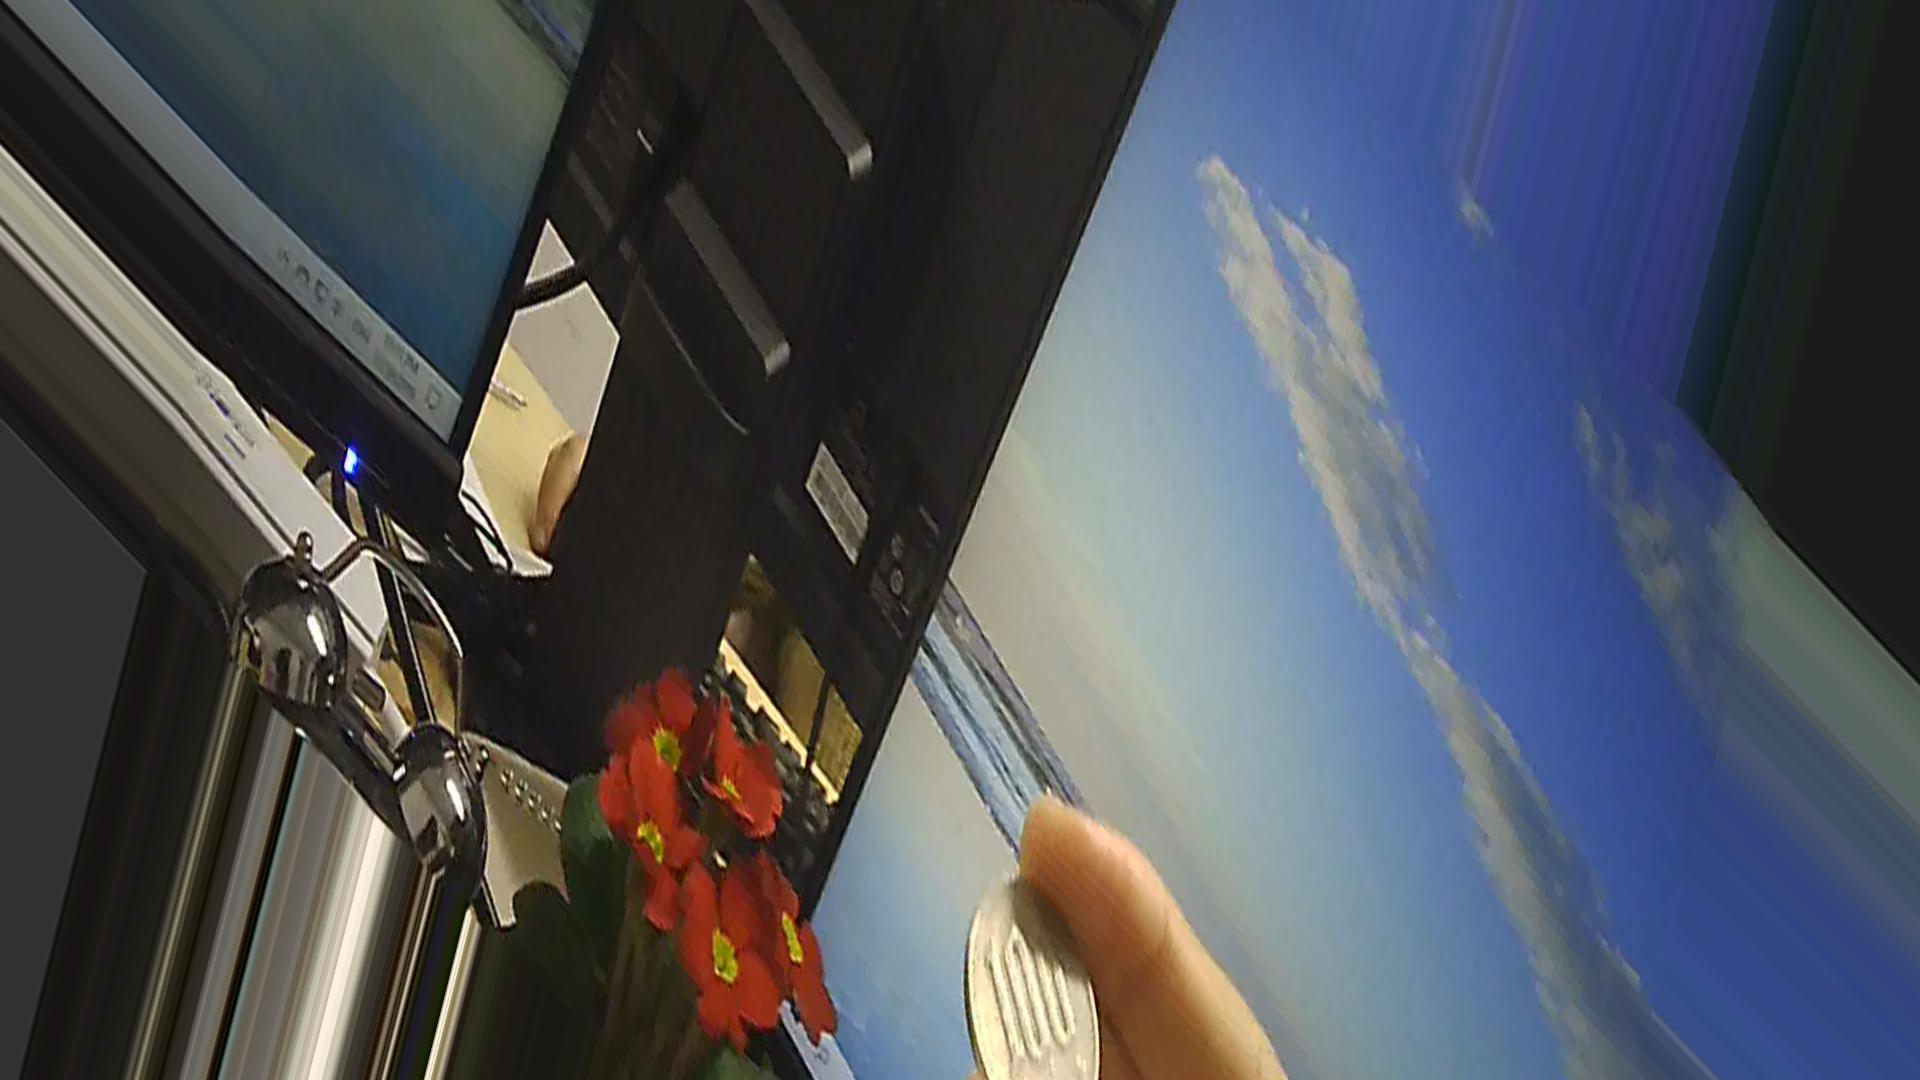100 Yen: (945, 865, 1114, 1073)
